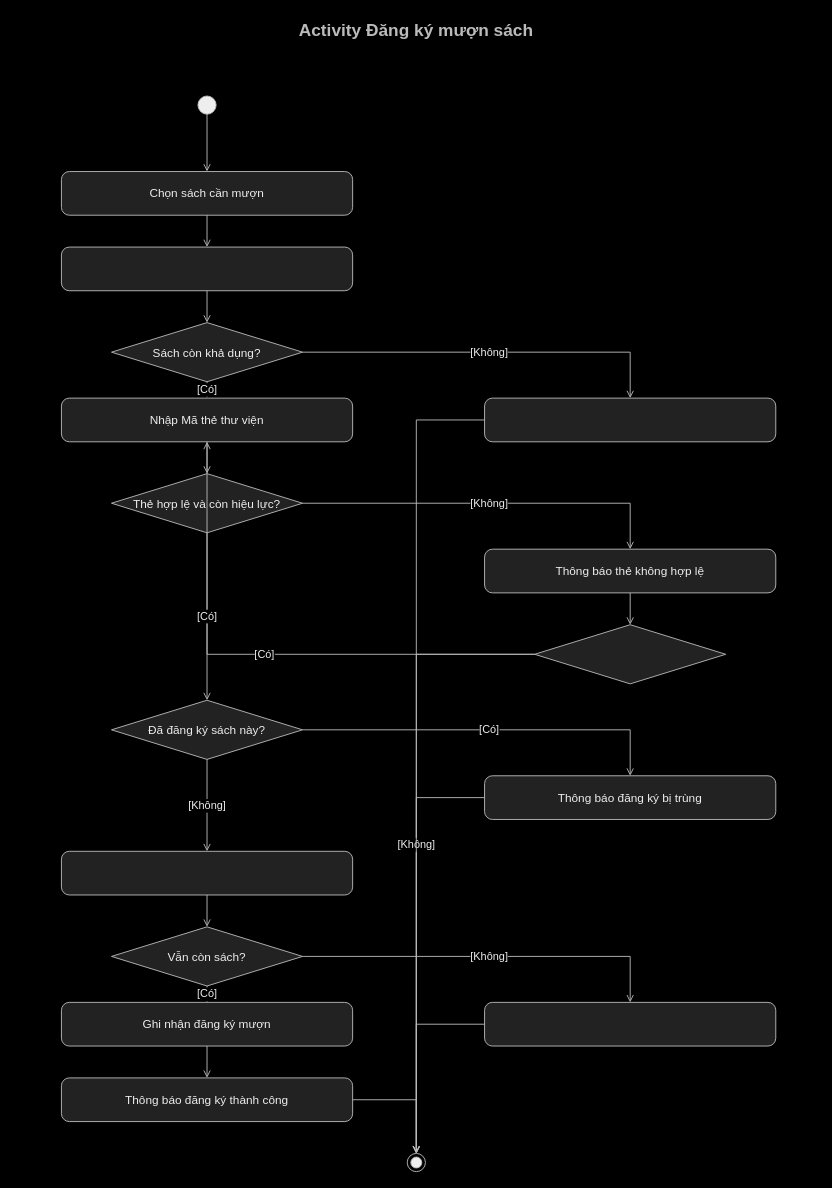
The diagram is 832 pixels wide and 1188 high, and some of its shapes have lost their labels. Here are the shapes that lost their labels. From the top down, the centre of each, then its label:
At (x=207, y=268): "Hiển thị thông tin và số lượng sách".
At (x=630, y=419): "Thông báo sách đã hết".
At (x=630, y=654): "Nhập lại?".
At (x=207, y=872): "Kiểm tra lại số lượng sách".
At (x=630, y=1023): "Thông báo sách vừa hết".
